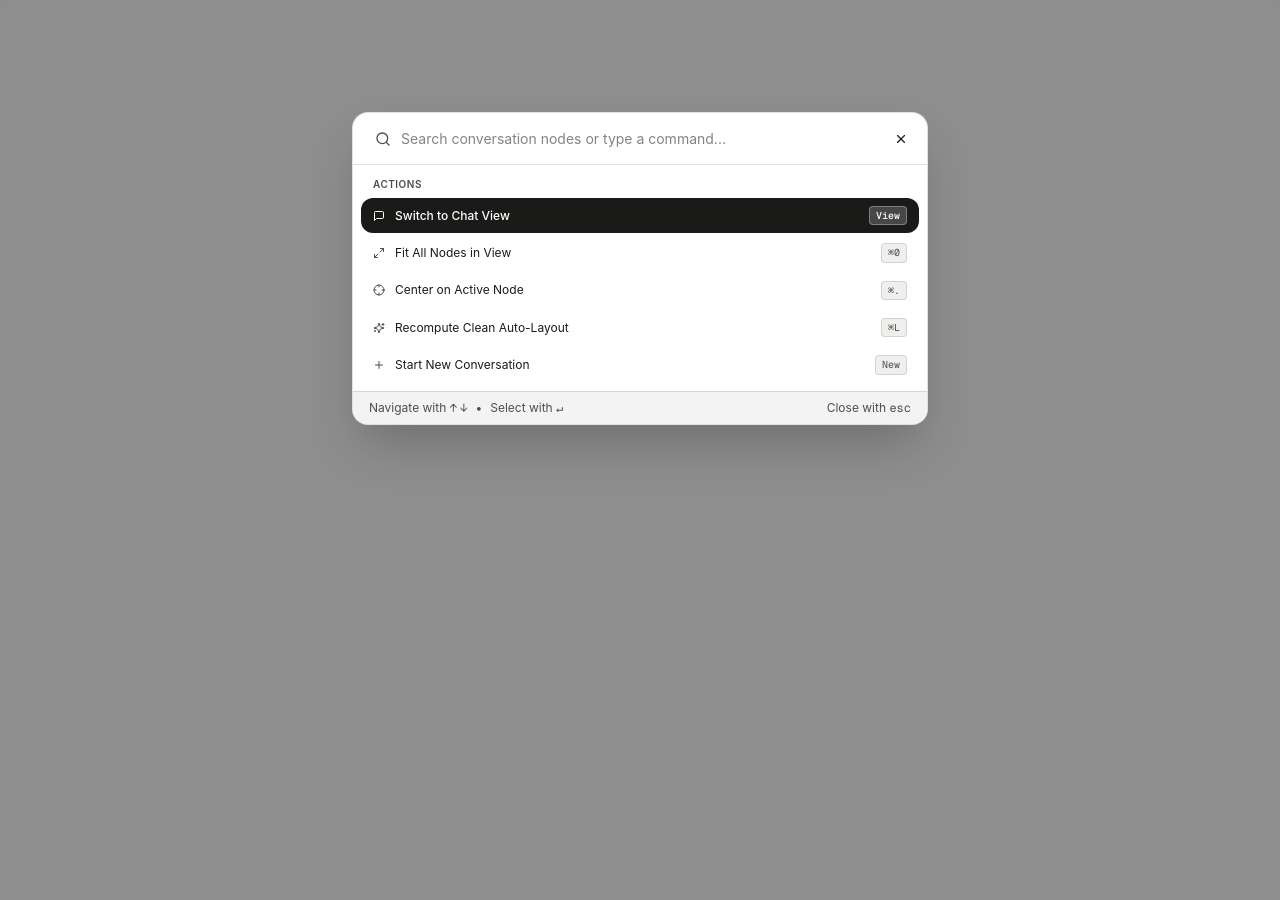
Scenario: CommandPalette inventory-backed search (LSI-041) › surfaces a search error and recovers on retry
Type "raft" into the field with placeholder "Search conversation nodes or type a command..." at (622, 138), box [365,118,879,158]
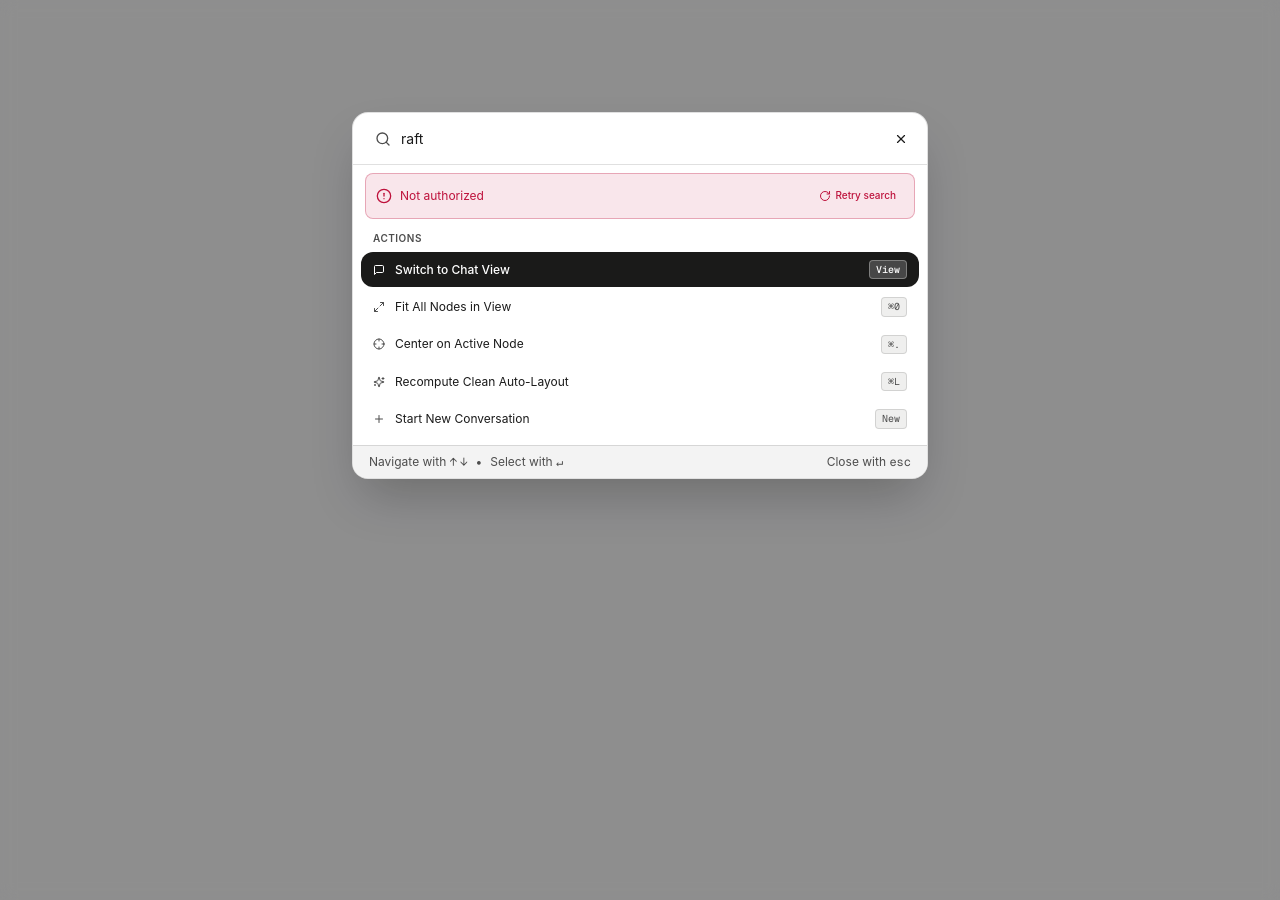
Expected: the message shows "Not authorized", [400,188,484,203]
Click the button "Retry search" at (858, 196), box [811,184,904,208]
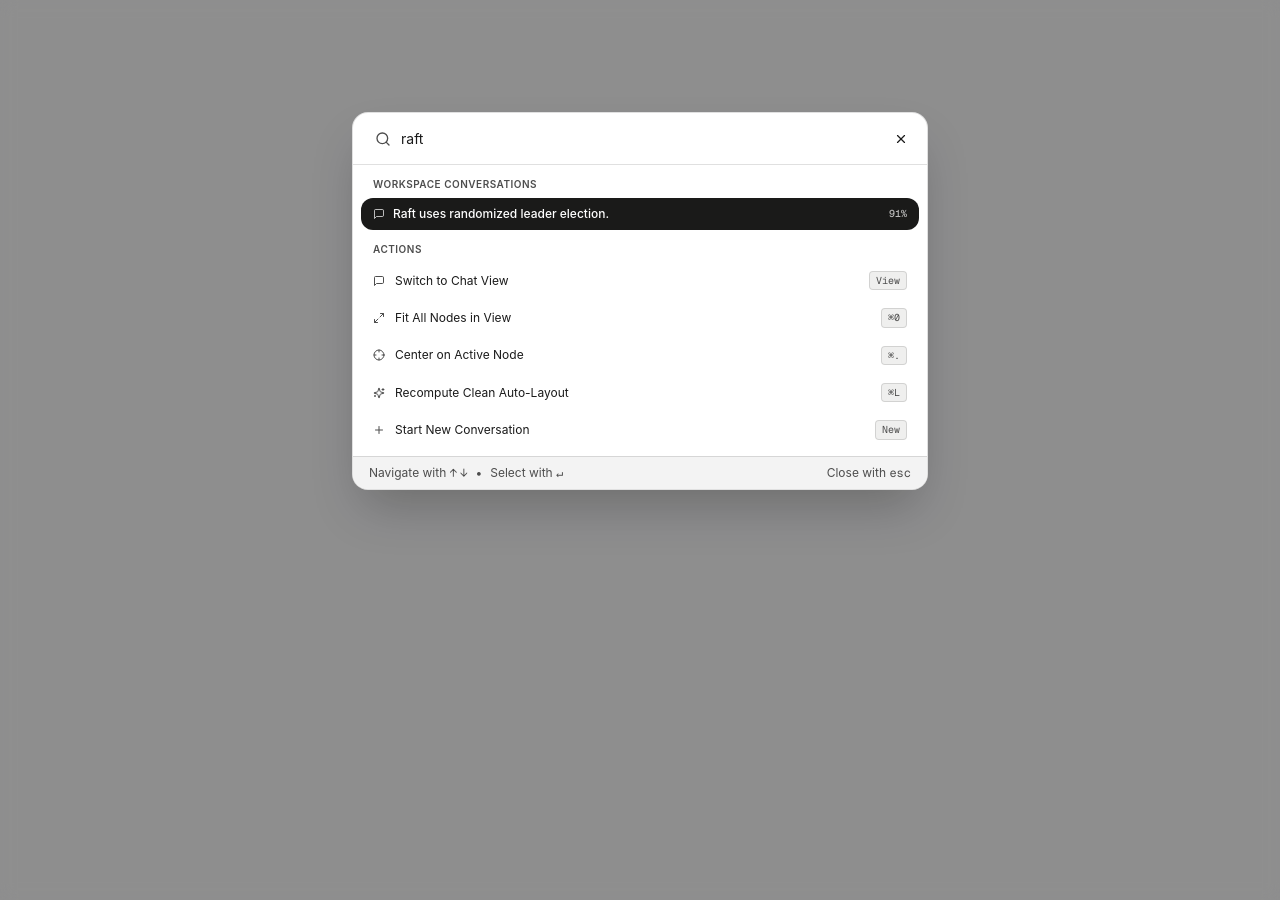
Expected: the button with test id "command-palette-node-node-1" is shown, [361,198,919,230]
